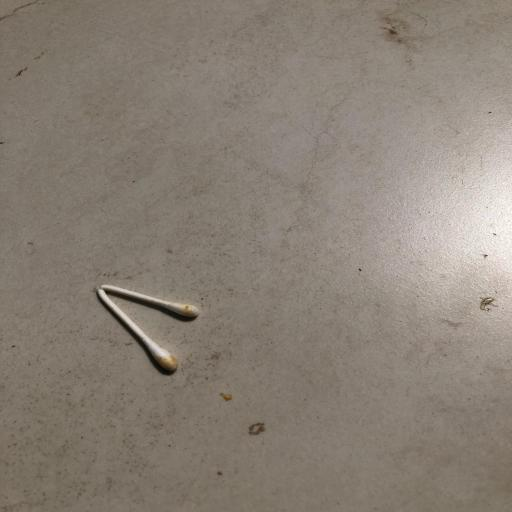waste: (93, 278, 214, 377)
